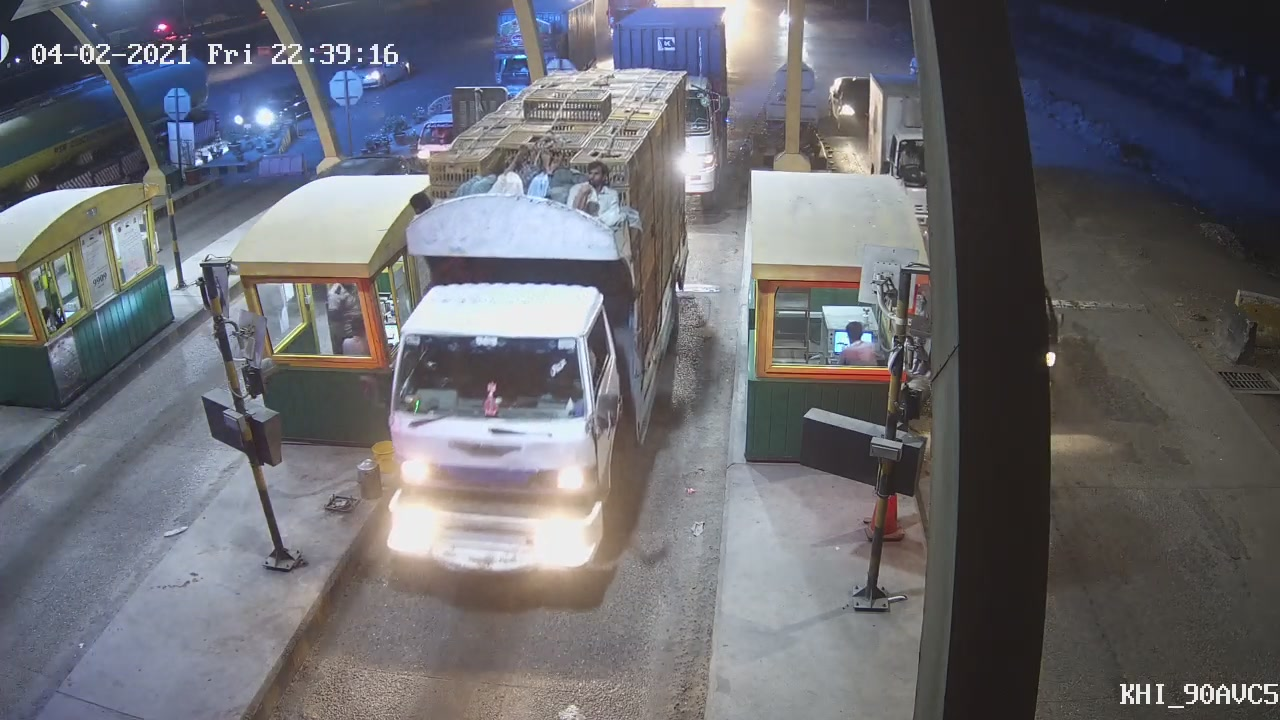F5: (381, 67, 707, 593)
